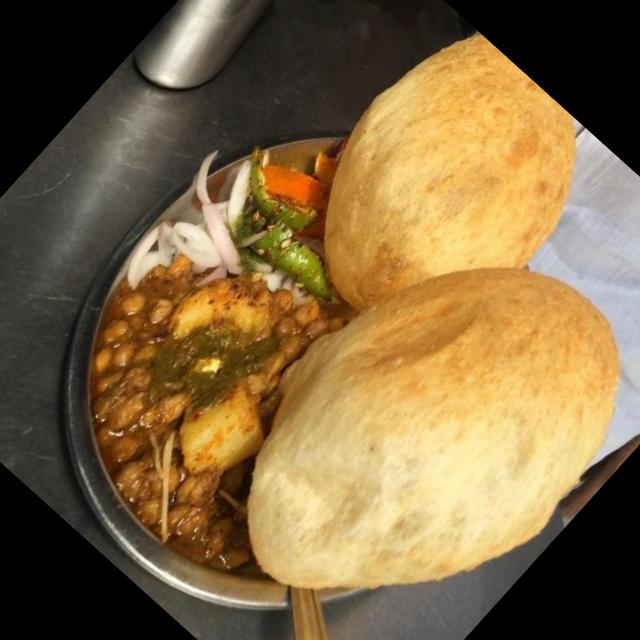Bhatura: (174, 179, 640, 640), (258, 10, 618, 375)
